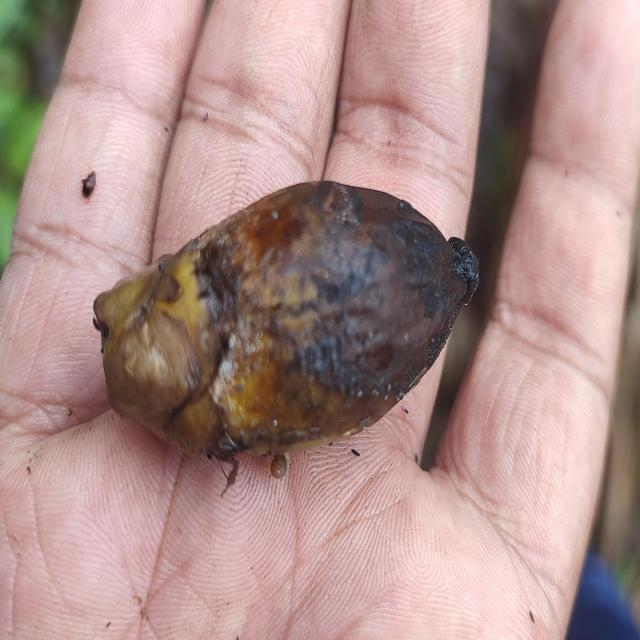damaged: (94, 182, 479, 474)
